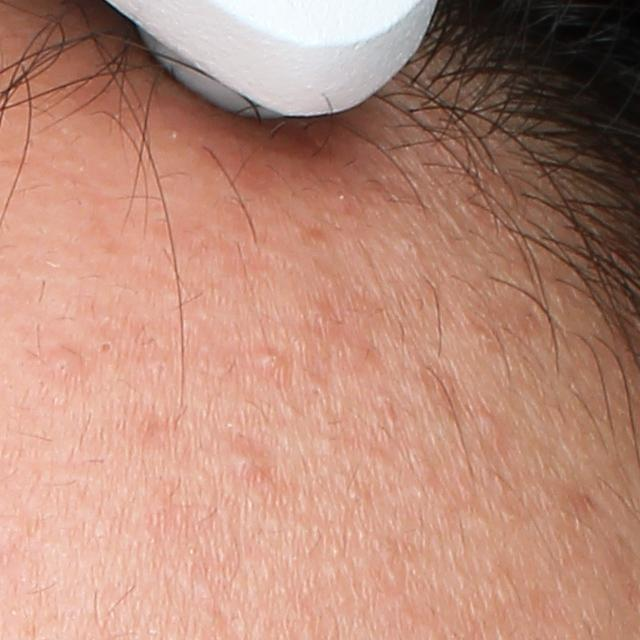papule: (230, 448, 263, 482)
